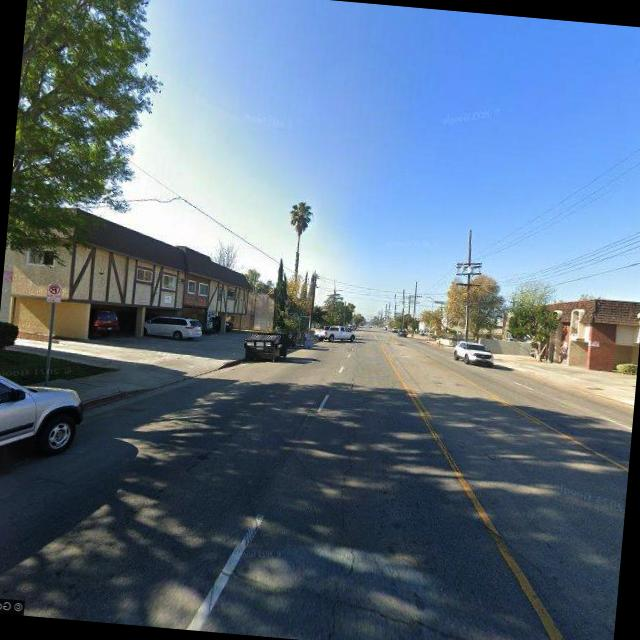crack: (328, 364, 381, 586)
